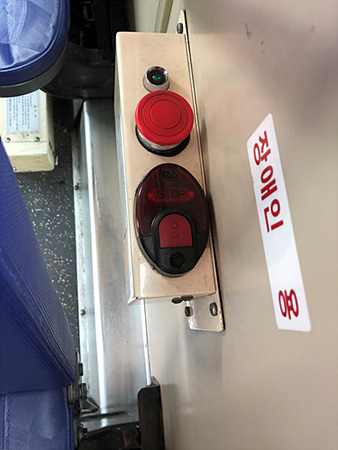bell: (134, 162, 213, 278)
